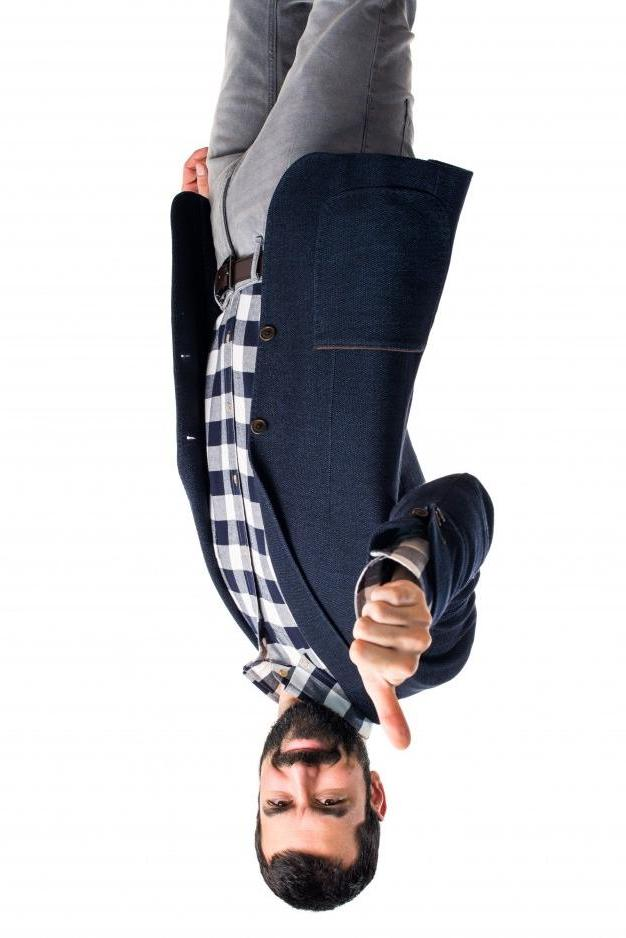thumbsdown: (348, 584, 433, 751)
